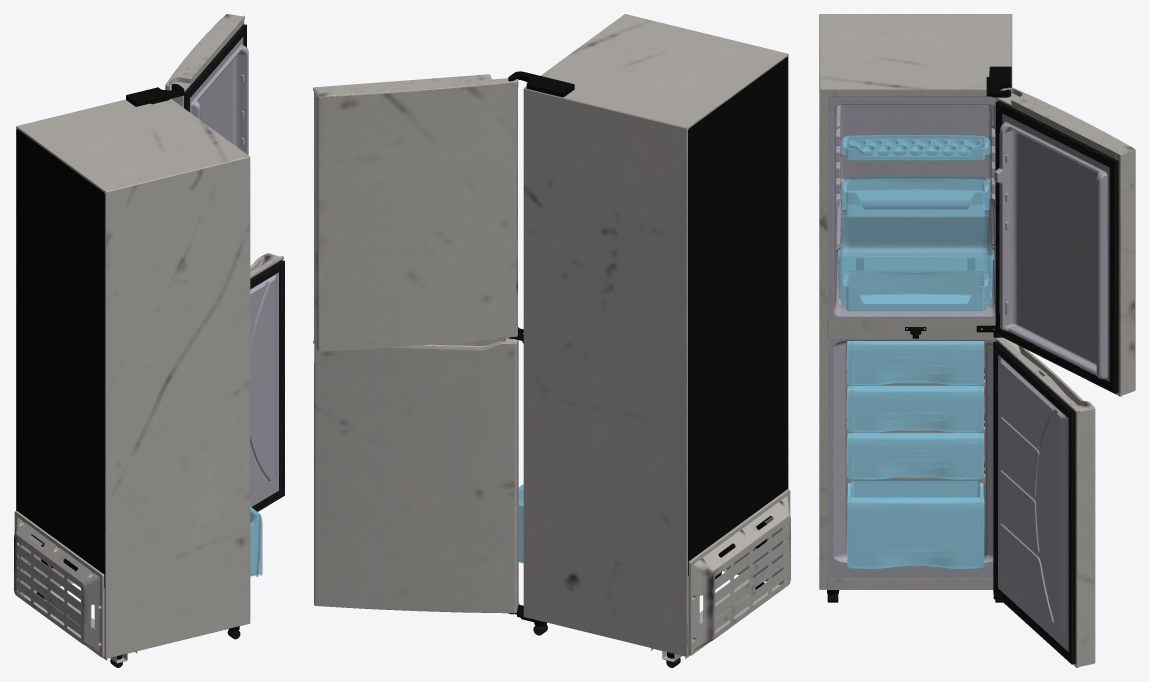
Rendered from refrigerator.glb.
3 renders of one model, left to right at view 1: azimuth 30°, elevation 25°; view 2: azimuth 150°, elevation 25°; view 3: azimuth 270°, elevation 25°, orthographic. The views are drawn at different scales.
Parts seen in each view (by area): view 1: Object_3, Object_2, Object_4; view 2: Object_3, Object_2, Object_4; view 3: Object_3, Object_2, Object_4.
Boxes of the visible parts, x1,y1,x2,y2 form: Object_3: (16, 14, 284, 658); Object_2: (16, 93, 239, 667); Object_4: (14, 83, 260, 663); Object_3: (313, 14, 788, 667); Object_2: (508, 57, 787, 655); Object_4: (508, 71, 790, 661); Object_3: (819, 14, 1135, 667); Object_2: (822, 77, 1002, 602); Object_4: (827, 66, 1011, 578).
Bounding box in the file's own units: 43.09 × 64.8 × 35.51.
1 material, 1 textured.
